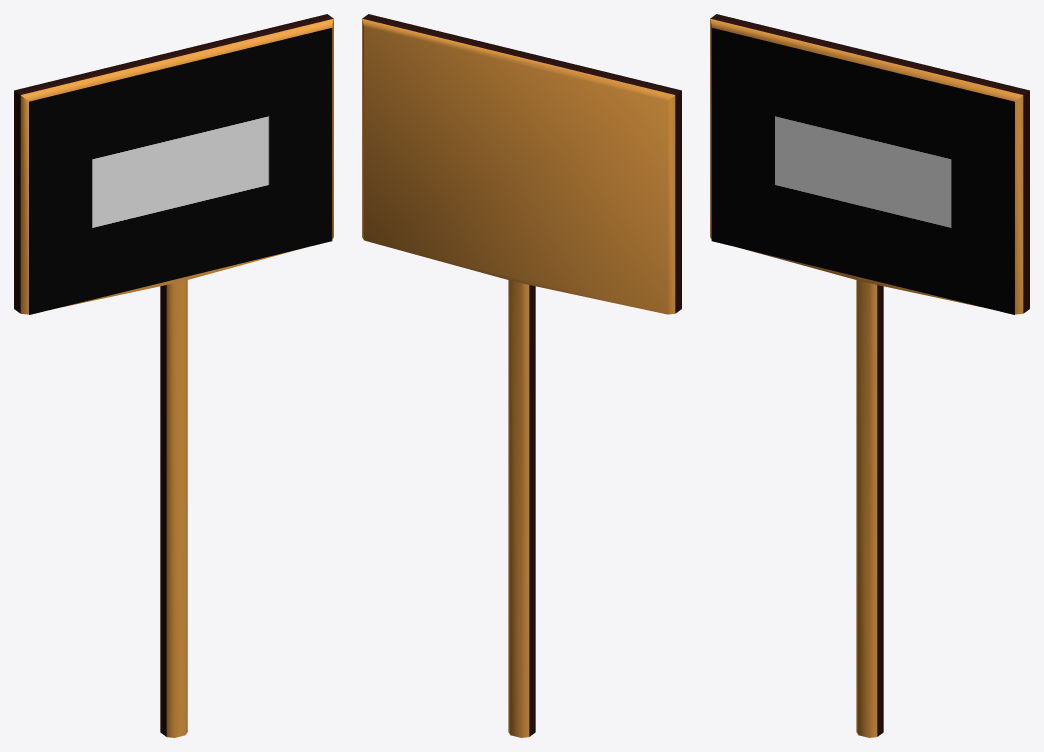
File: UpgradeStand.fbx
3 renders of one model, left to right at view 1: azimuth 30°, elevation 25°; view 2: azimuth 150°, elevation 25°; view 3: azimuth 330°, elevation 25°, orthographic.
Visible parts, largest first — view 1: UpgradeStand; view 2: UpgradeStand; view 3: UpgradeStand.
Part boxes in pixels (x1,y1,x2,y2): UpgradeStand: [14, 14, 333, 737]; UpgradeStand: [362, 14, 681, 737]; UpgradeStand: [710, 14, 1029, 737].
Size of the model in its own units: 1.5 by 3.1 by 0.1063.
